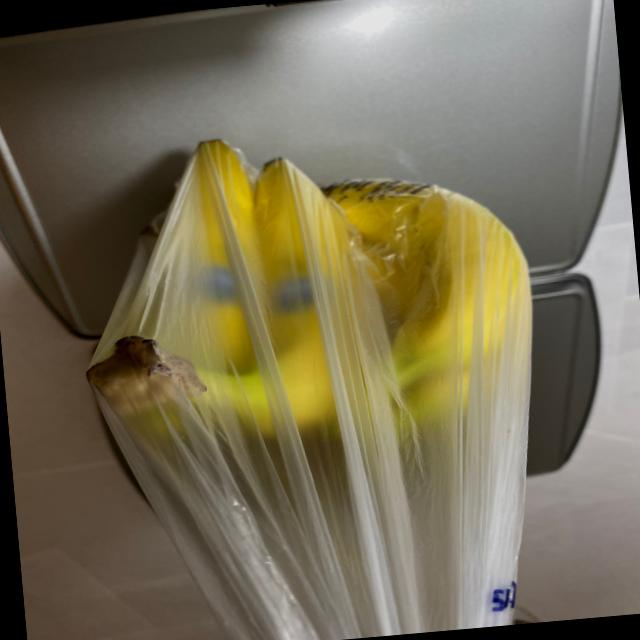banana: (66, 106, 554, 512)
